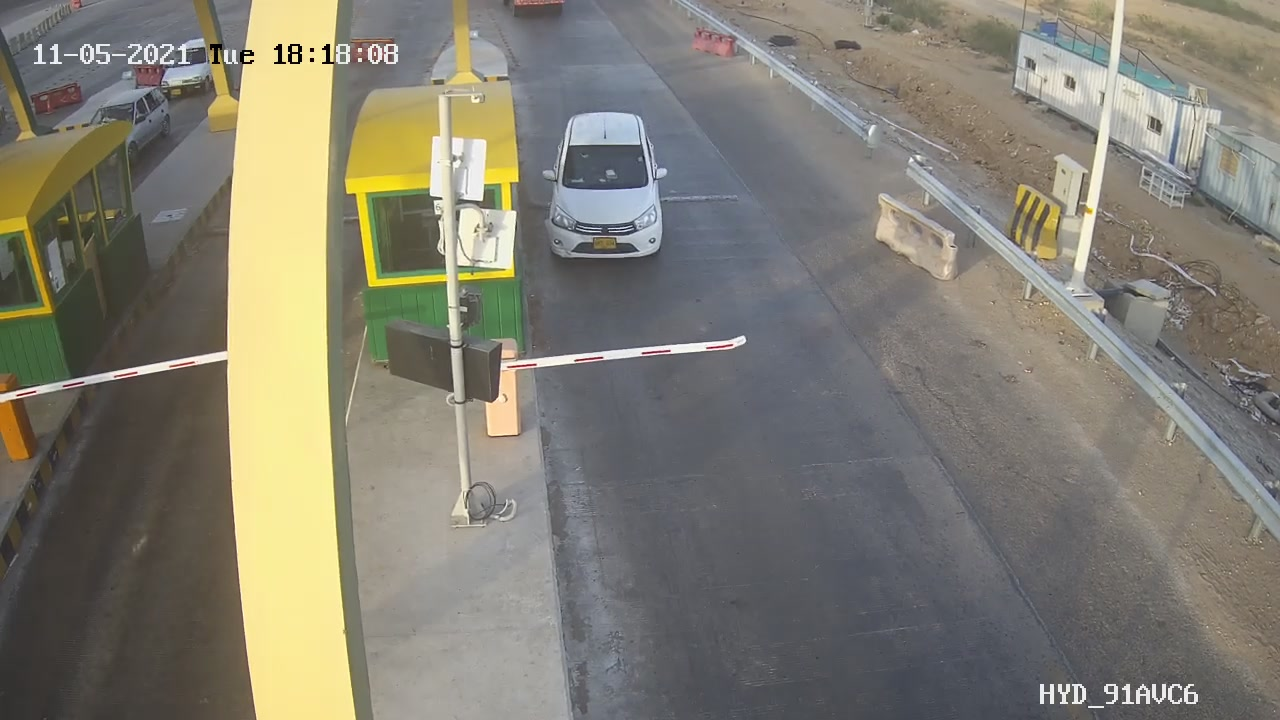F1: (533, 105, 680, 270)
